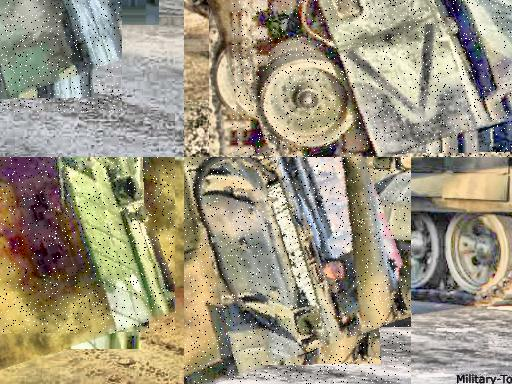tanks: (185, 158, 411, 384), (233, 1, 512, 158), (1, 158, 176, 334), (333, 158, 512, 306), (1, 1, 123, 102)
